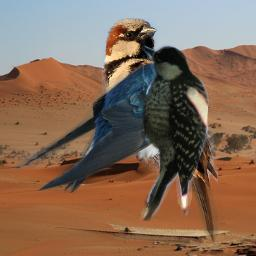Swallow: (101, 18, 218, 242), (15, 61, 198, 193)
Woodpecker: (140, 44, 209, 221)
